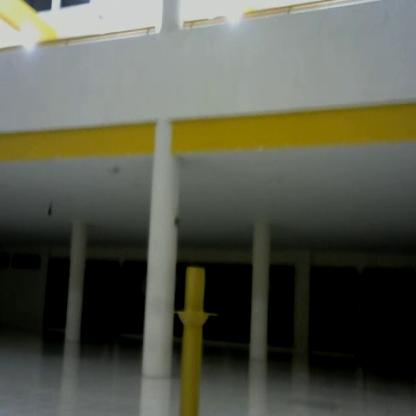pole: (169, 261, 222, 416)
